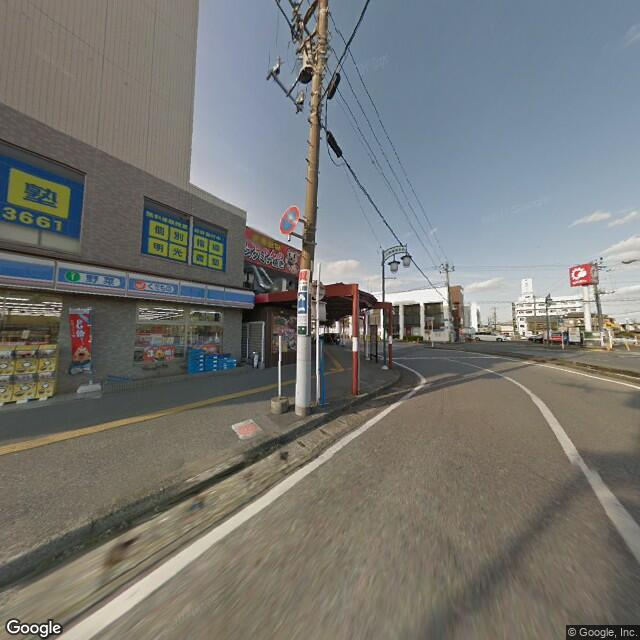lawson: (1, 253, 256, 313)
